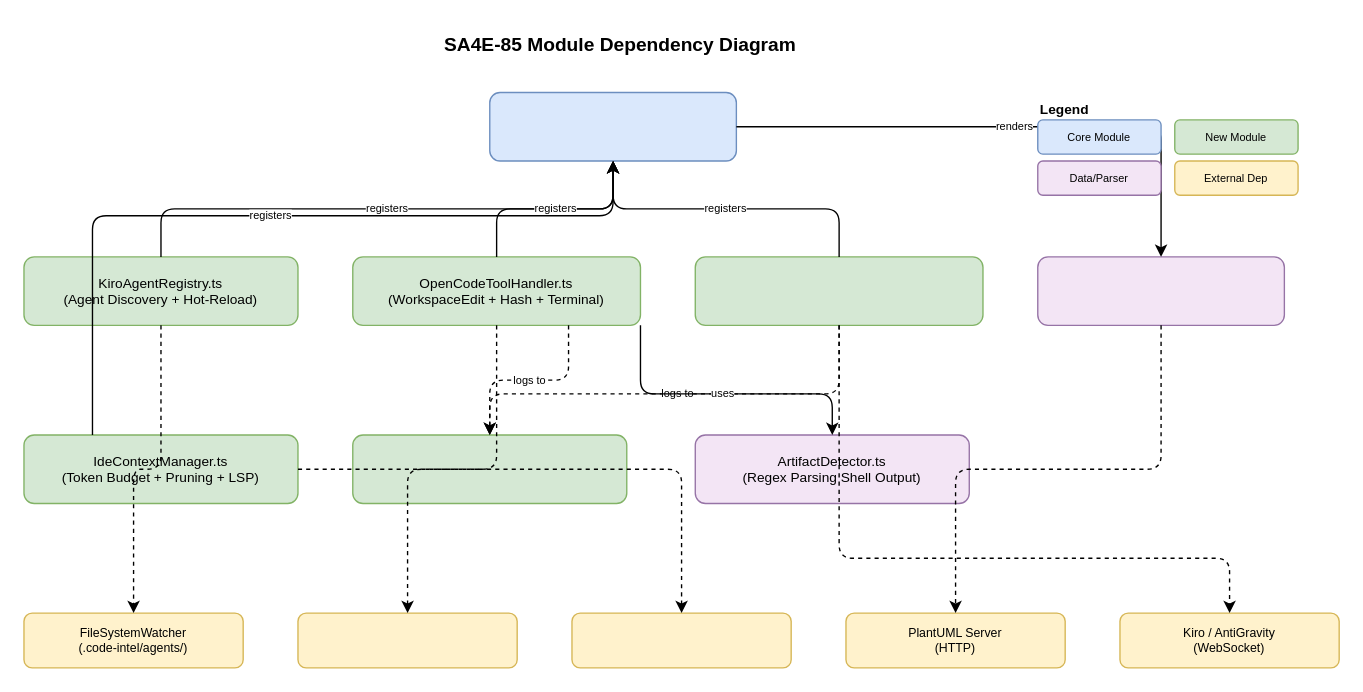
Image size: 1363x692. Some labels were removed from this diagram. The shapes that lost their labels are listed below. From the top down, each one's centre as x and y in pixels, then its label:
At point 612,126: "MessageRouter.ts (Central Dispatcher)".
At point 838,290: "IpcBridge.ts (WebSocket + JSON-RPC + Reconnect)".
At point 1160,290: "DiagramRenderer.ts (PlantUML/BPMN → SVG)".
At point 489,468: "TelemetryService.ts (Local JSONL Logging)".
At point 407,640: "VSCode WorkspaceEdit API".
At point 681,640: "VSCode LSP Client (Diagnostics)".
